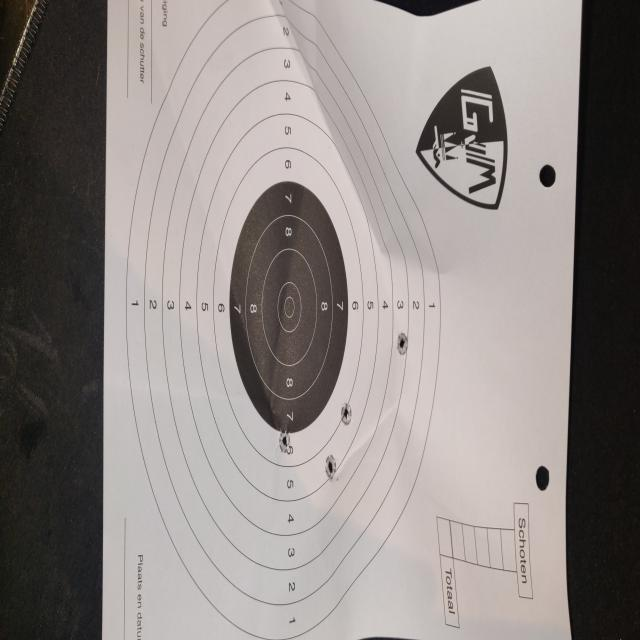3: (396, 328, 409, 359)
5: (323, 450, 338, 484)
6: (340, 401, 353, 428)
7: (276, 425, 292, 456)
Target: (125, 0, 442, 640)
black_contour: (229, 180, 349, 434)
